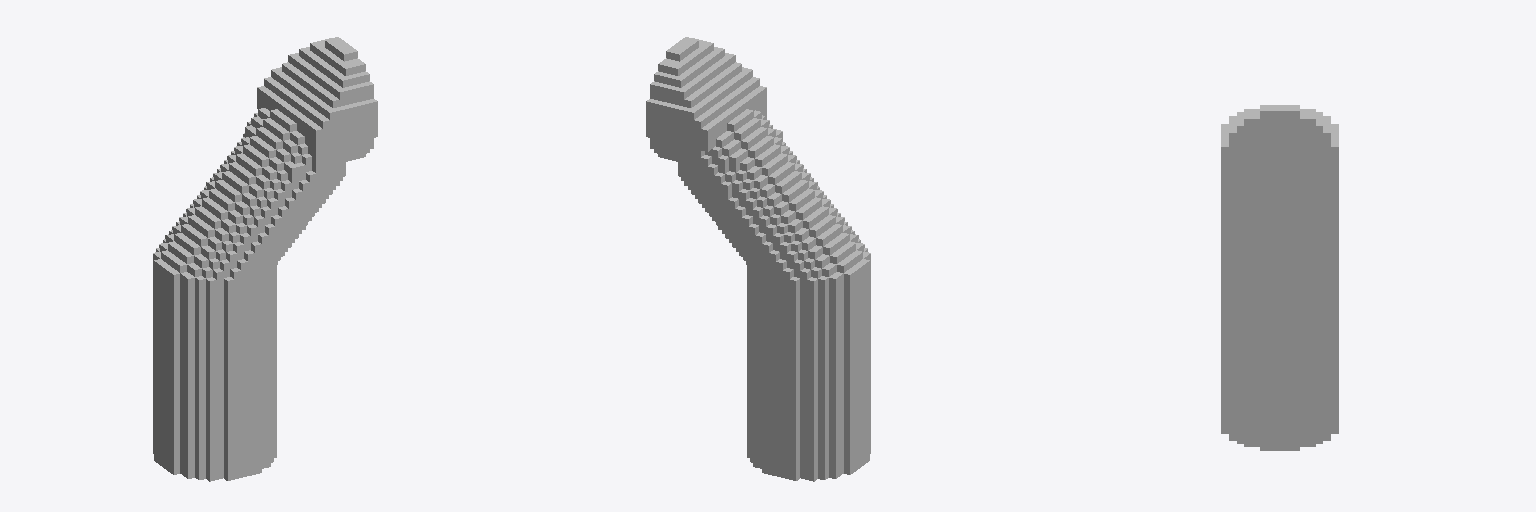
The model's file is goal.obj.
The picture shows the model from 3 angles: view 1: azimuth 30°, elevation 25°; view 2: azimuth 150°, elevation 25°; view 3: azimuth 270°, elevation 25°; orthographic projection.
Visible parts, largest first — view 1: object 1; view 2: object 1; view 3: object 1.
Boxes of the visible parts, box(x1,y1,x2,y2) form: object 1: box(153, 37, 377, 481); object 1: box(646, 37, 870, 481); object 1: box(1221, 105, 1338, 450).
Size of the model in its own units: 2.7 by 5.3 by 1.5.